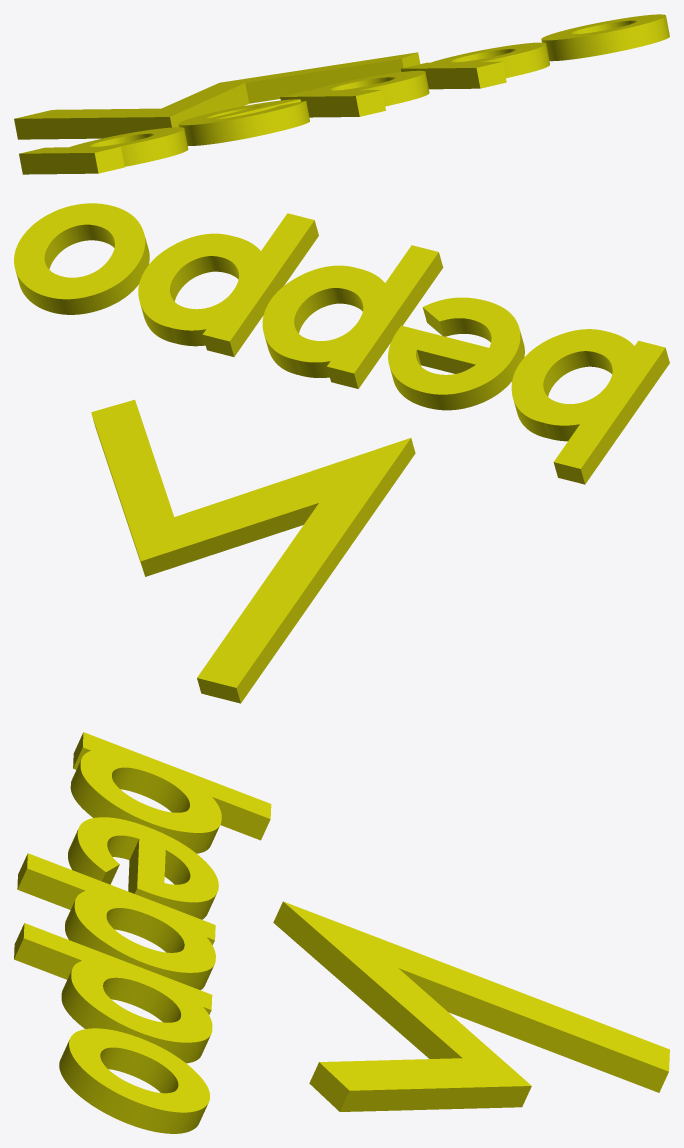
The model's file is logga.glb.
3 renders of one model, top to bottom at view 1: azimuth 30°, elevation 25°; view 2: azimuth 150°, elevation 25°; view 3: azimuth 270°, elevation 25°, orthographic. The views are drawn at different scales.
Parts seen in each view (by area): view 1: Mesh_Mesh_head_geo.001_lambert2SG.001; view 2: Mesh_Mesh_head_geo.001_lambert2SG.001; view 3: Mesh_Mesh_head_geo.001_lambert2SG.001.
Boxes of the visible parts, x1,y1,x2,y2 form: Mesh_Mesh_head_geo.001_lambert2SG.001: (14,14,669,174); Mesh_Mesh_head_geo.001_lambert2SG.001: (14,203,669,703); Mesh_Mesh_head_geo.001_lambert2SG.001: (14,732,669,1133).
Bounding box in the file's own units: 0.1717 × 0.0608 × 0.138.
